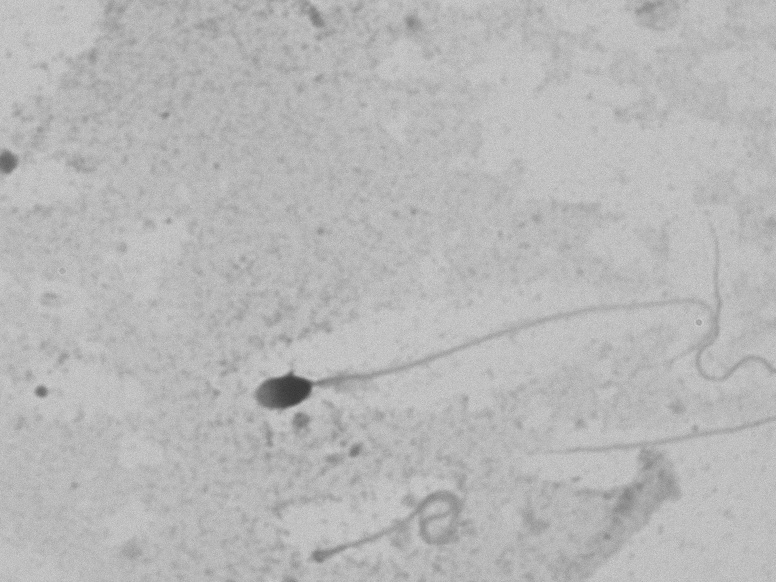Normal: (196, 269, 755, 414)
